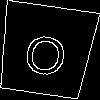O: (21, 25, 70, 77)
